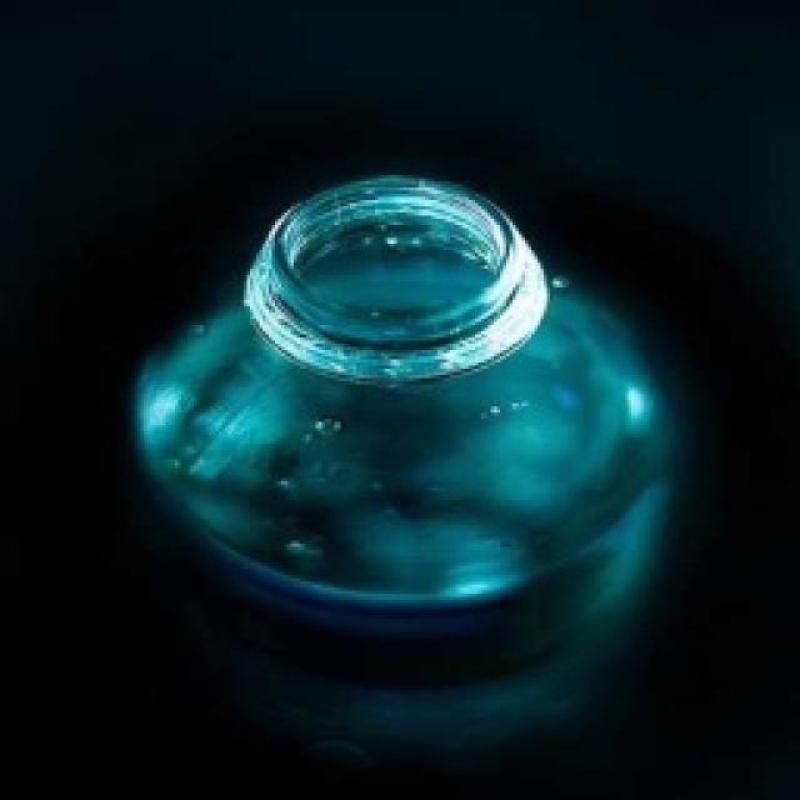botella: (131, 178, 685, 741)
